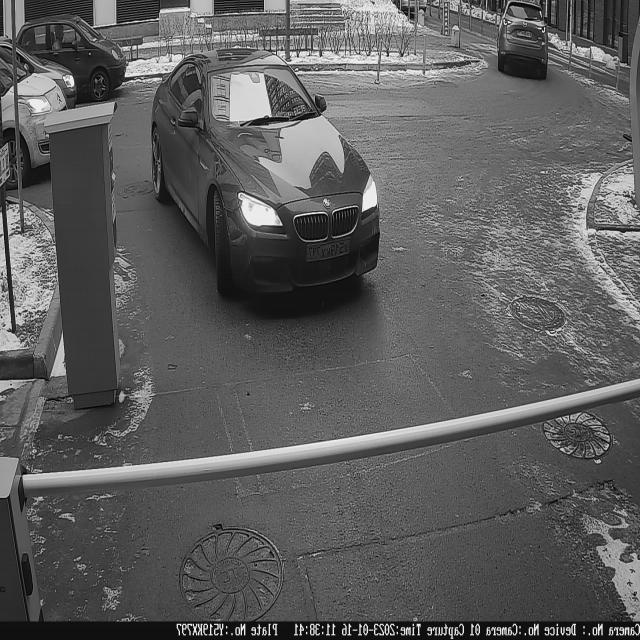car-plate-numbers: (305, 233, 355, 267)
